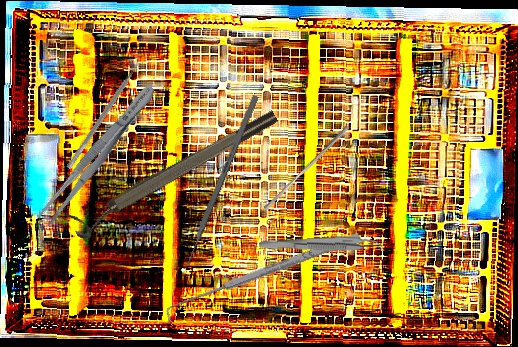Dressing Forceps: (34, 80, 161, 229)
Fixation Ring: (66, 106, 285, 243)
Hook Surgical: (161, 229, 365, 323)
Pusher: (180, 94, 259, 277), (263, 121, 350, 214)
Spatula Surgical: (66, 56, 147, 173)
Tissue Forceps: (258, 234, 384, 257)
